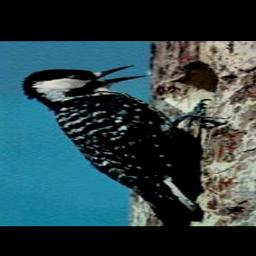Woodpecker: (12, 61, 230, 225)
